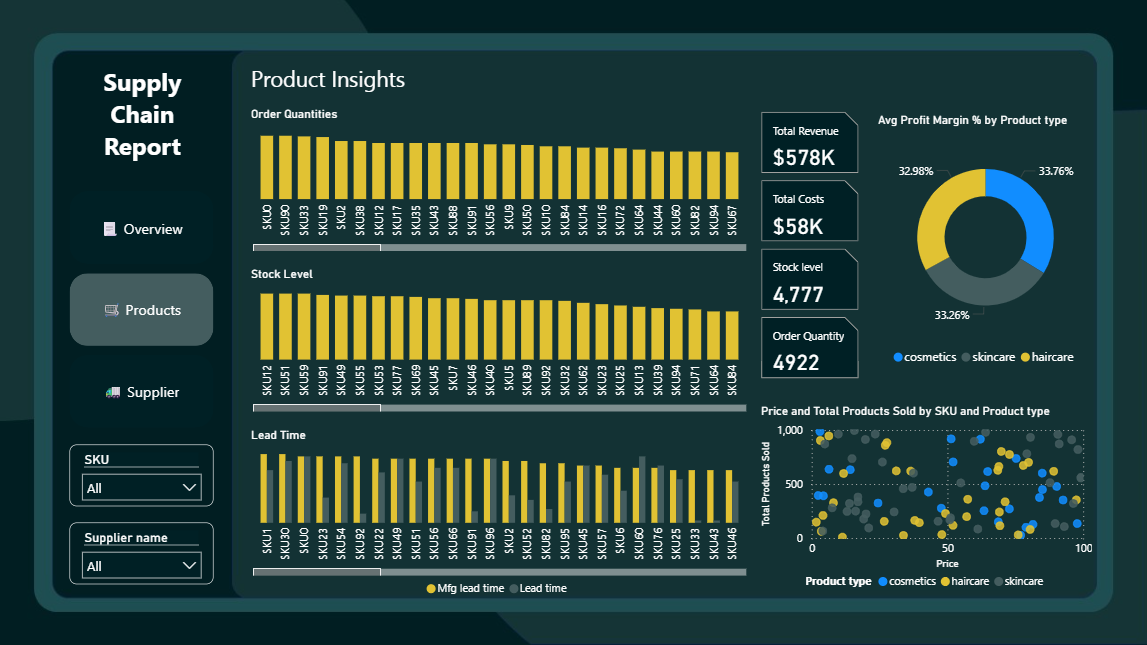

Layout of this report page (visuals, bound fields, positions):
{"tool":"powerbi","page":{"name":"🛒   Products","canvas":[1280,720],"ordinal":1},"visuals":[{"type":"columnChart","title":"Order Quantities","fields":{"Y":["_Measures.Order Quantity"],"Category":["supply_chain_data.SKU"]},"box":[275,120,560,165],"z":0},{"type":"columnChart","title":"Stock Level","fields":{"Category":["supply_chain_data.SKU"],"Y":["_Measures.Stock level"]},"box":[275,298,560,165],"z":1000},{"type":"clusteredColumnChart","title":"Lead Time","fields":{"Category":["supply_chain_data.SKU"],"Y":["Sum(supply_chain_data.Mfg lead time)","Sum(supply_chain_data.Lead time)"]},"box":[275,477,560,197],"z":2000},{"type":"cardVisual","fields":{"Data":["_Measures.Total Revenue","_Measures.Total Costs","_Measures.Stock level","_Measures.Order Quantity"]},"box":[841.7,120,118.3,308.3],"z":3000},{"type":"donutChart","fields":{"Category":["supply_chain_data.Product type"],"Y":["_Measures.Avg Profit Margin %"]},"box":[971.7,126.7,248.3,290],"z":4000},{"type":"scatterChart","fields":{"Category":["supply_chain_data.SKU"],"X":["Sum(supply_chain_data.Price)"],"Y":["_Measures.Total Products Sold"],"Series":["supply_chain_data.Product type"]},"box":[842.2,450,377.8,215.6],"z":5000},{"type":"textbox","box":[275,66.7,196.7,78.3],"z":6000},{"type":"pageNavigator","box":[78.9,213.3,160,263.3],"z":7000},{"type":"slicer","fields":{"Values":["supply_chain_data.SKU"]},"box":[78.3,495,160,68.3],"z":8000},{"type":"slicer","fields":{"Values":["supply_chain_data.Supplier name"]},"box":[78.8,581.2,160,68.8],"z":9000},{"type":"textbox","box":[94.3,68.6,128.6,128.6],"z":10000}]}

Visuals, with their boxes in screenshot pixels (x1, y1, x2, y2), scaled from the page's 1280x720 canvas onto the 1147x645 screenshot:
"Order Quantities" columnChart: rect(246, 108, 748, 255)
"Stock Level" columnChart: rect(246, 267, 748, 415)
"Lead Time" clusteredColumnChart: rect(246, 427, 748, 604)
cardVisual - _Measures.Total Revenue x _Measures.Total Costs: rect(754, 108, 860, 384)
donutChart - supply_chain_data.Product type x _Measures.Avg Profit Margin %: rect(871, 114, 1093, 373)
scatterChart - supply_chain_data.SKU x Sum(supply_chain_data.Price): rect(755, 403, 1093, 596)
textbox: rect(246, 60, 423, 130)
pageNavigator: rect(71, 191, 214, 427)
slicer - supply_chain_data.SKU: rect(70, 443, 214, 505)
slicer - supply_chain_data.Supplier name: rect(71, 521, 214, 582)
textbox: rect(85, 61, 200, 177)
